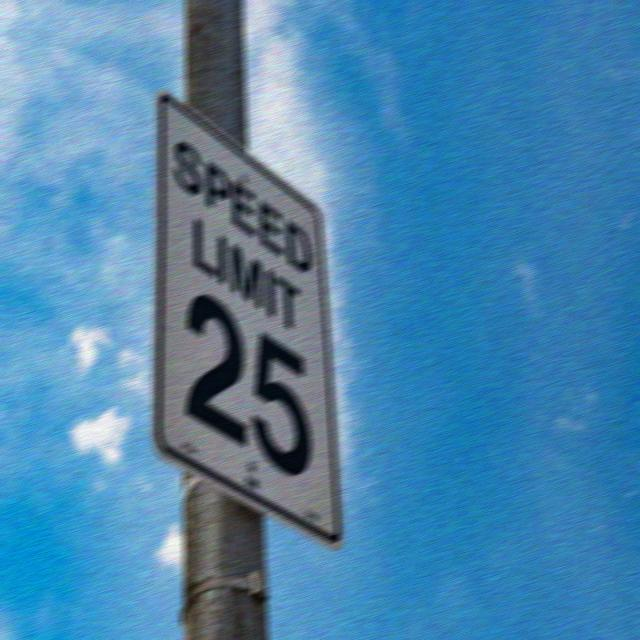speedLimit25: (147, 85, 349, 556)
